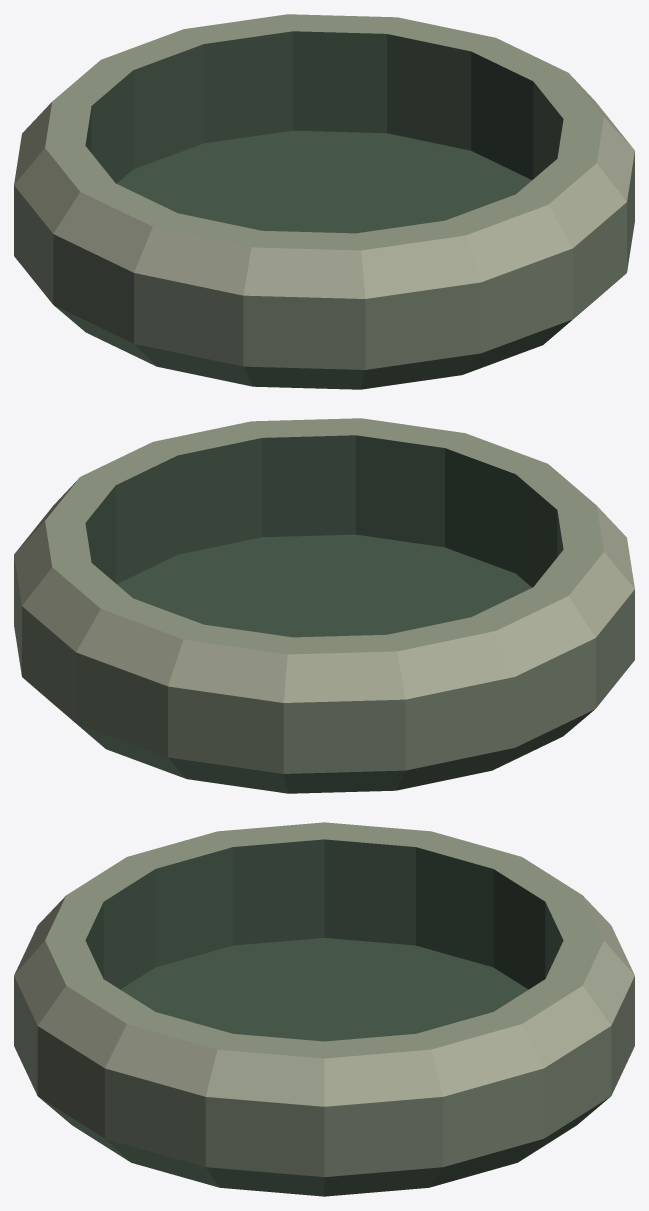
Rendered from basin.glb.
3 renders of one model, top to bottom at view 1: azimuth 30°, elevation 25°; view 2: azimuth 150°, elevation 25°; view 3: azimuth 270°, elevation 25°, orthographic.
Parts seen in each view (by area): view 1: basin__body; view 2: basin__body; view 3: basin__body.
Part boxes in pixels (x1,y1,x2,y2): basin__body: (14, 14, 634, 389); basin__body: (14, 418, 634, 793); basin__body: (14, 822, 634, 1196).
Size of the model in its own units: 1.6 by 0.4 by 1.6.
